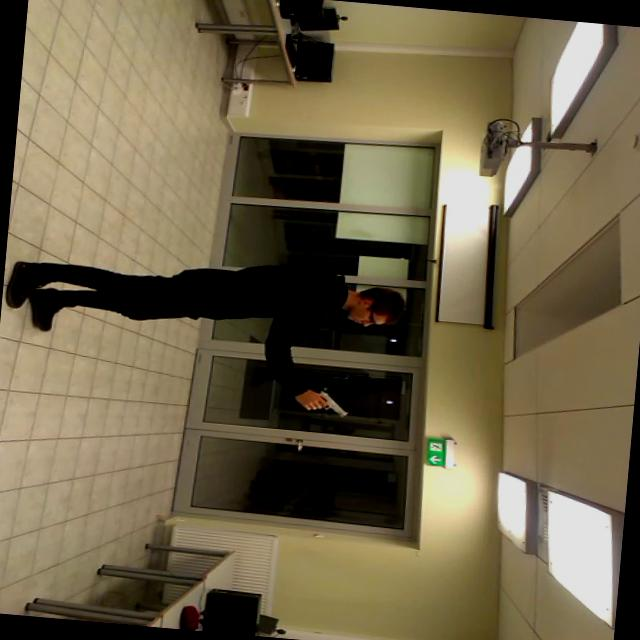handgun: (286, 384, 352, 420)
